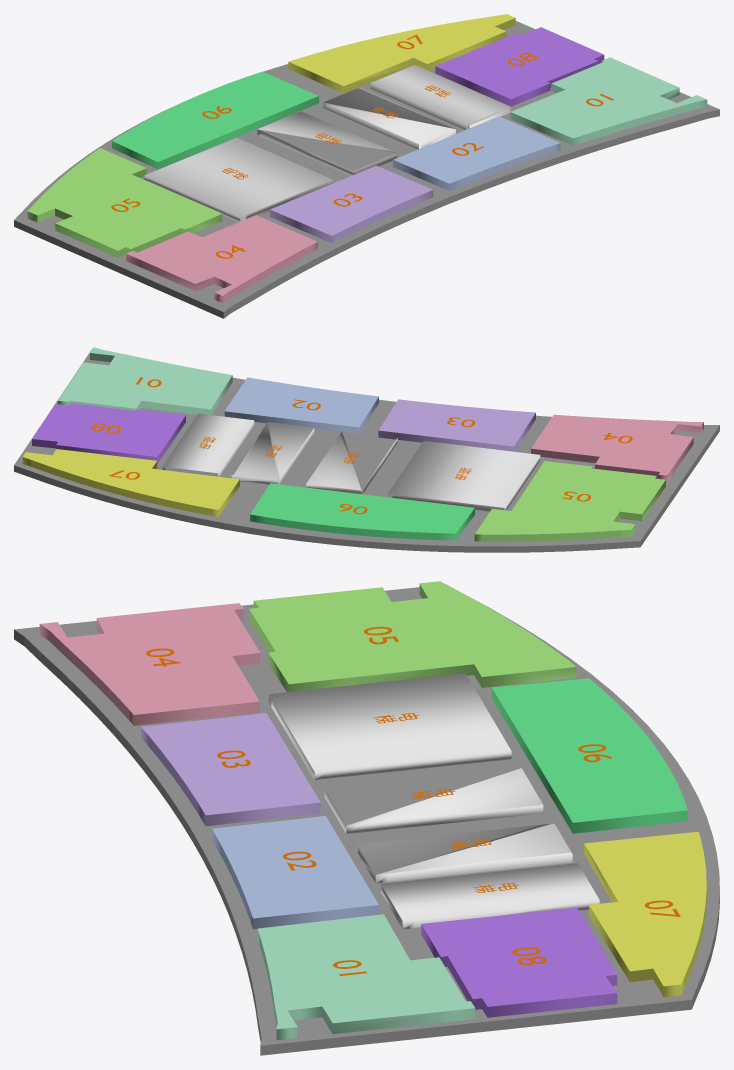
File: floor.glb
3 renders of one model, top to bottom at view 1: azimuth 30°, elevation 25°; view 2: azimuth 150°, elevation 25°; view 3: azimuth 270°, elevation 25°, orthographic. The views are drawn at different scales.
Parts seen in each view (by area): view 1: floor, lift, unit.05, unit.06, unit.01, unit.4, unit.07, unit.08, unit.03, unit.02; view 2: floor, lift, unit.05, unit.06, unit.01, unit.4, unit.07, unit.08, unit.03, unit.02; view 3: floor, lift, unit.05, unit.06, unit.01, unit.4, unit.08, unit.07, unit.03, unit.02.
Part boxes in pixels (x1,y1,x2,y2): floor: (14, 21, 719, 318); lift: (144, 65, 510, 222); unit.05: (27, 148, 222, 257); unit.06: (112, 71, 318, 169); unit.01: (510, 57, 707, 145); unit.4: (126, 215, 317, 303); unit.07: (288, 14, 515, 93); unit.08: (435, 27, 604, 106); unit.03: (270, 165, 433, 243); unit.02: (393, 116, 560, 190); floor: (14, 349, 719, 552); lift: (162, 413, 540, 511); unit.05: (474, 461, 665, 541); unit.06: (250, 483, 474, 540); unit.01: (57, 347, 232, 414); unit.4: (531, 414, 703, 482); unit.07: (22, 449, 239, 516); unit.08: (32, 403, 185, 463); unit.03: (378, 399, 535, 451); unit.02: (224, 377, 378, 434); floor: (14, 584, 719, 1055); lift: (268, 673, 599, 929); unit.05: (249, 581, 576, 691); unit.06: (491, 678, 687, 833); unit.01: (257, 914, 475, 1039); unit.4: (39, 603, 260, 725); unit.08: (421, 907, 617, 1017); unit.07: (584, 831, 706, 997); unit.03: (141, 713, 320, 826); unit.02: (212, 816, 378, 929).
Bounding box in the file's own units: 75.19 × 1.81 × 48.6.
